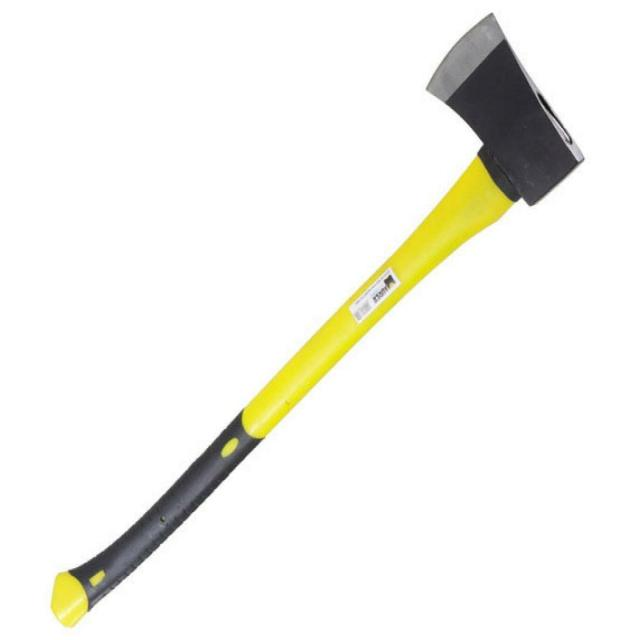Kapak: (36, 38, 597, 604)
